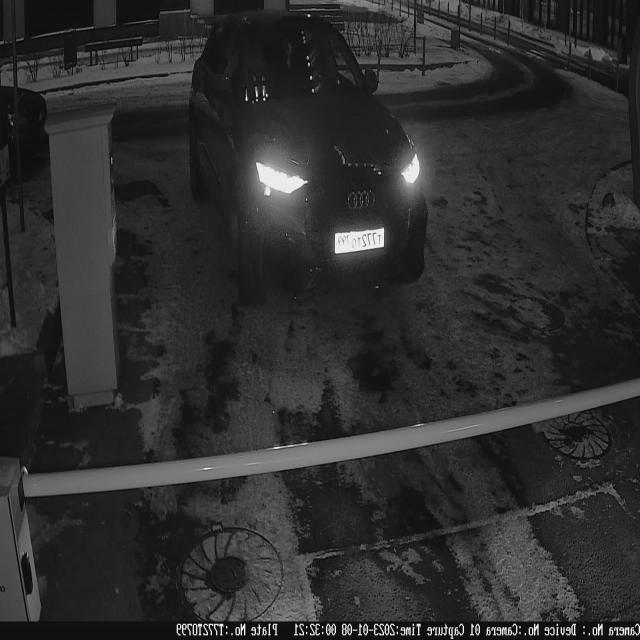car-plate-numbers: (333, 222, 390, 262)
